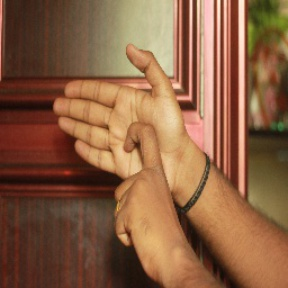R: (54, 41, 187, 232)
